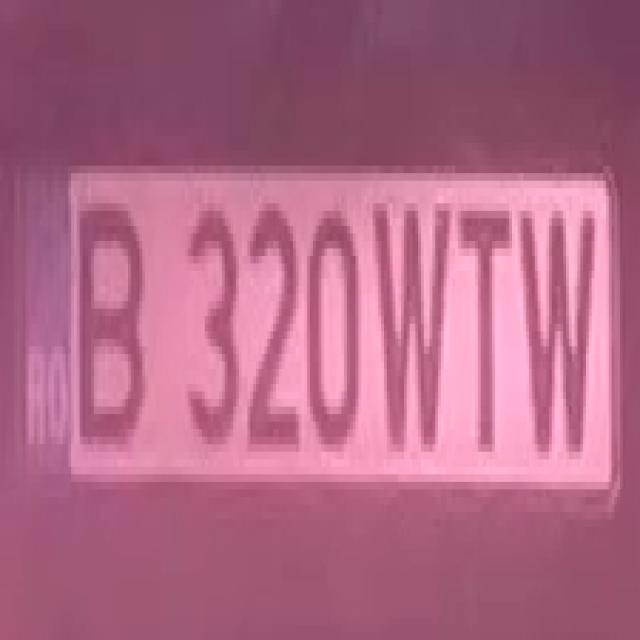EU: (14, 152, 617, 516)
Romanie: (22, 156, 75, 483)
